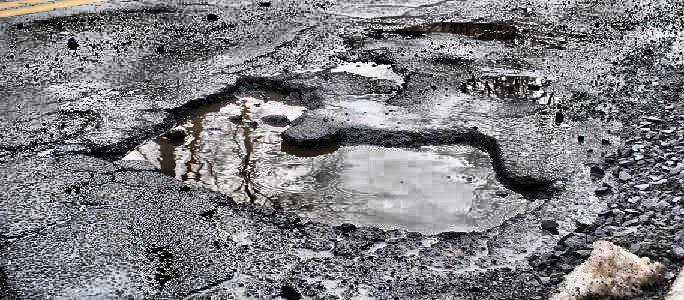pothole: (114, 72, 554, 236), (385, 17, 516, 43), (330, 55, 407, 87)
